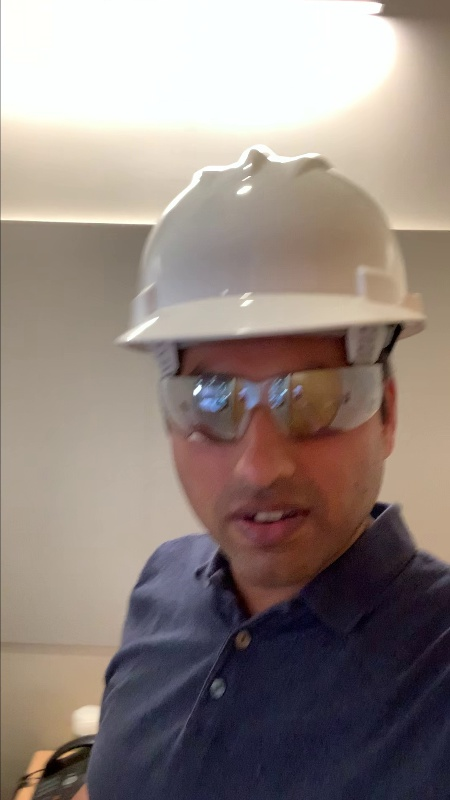glasses: (153, 356, 395, 439)
helmet: (108, 138, 428, 359)
